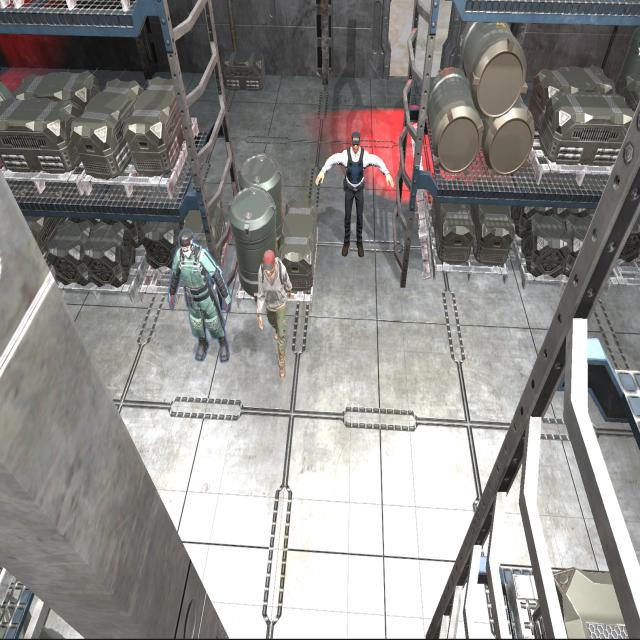thiefs: (256, 245, 293, 382)
